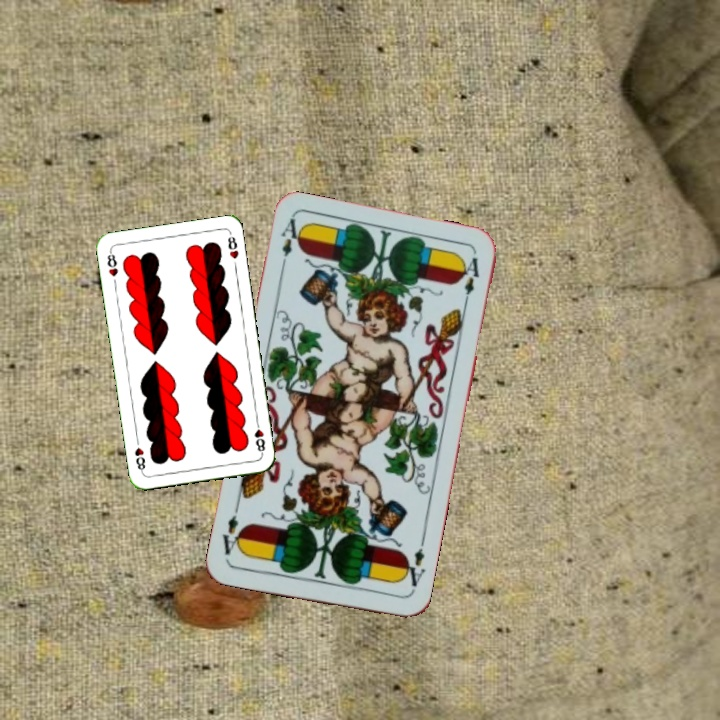EA: (276, 215, 305, 274), (398, 536, 428, 589)
H8: (250, 416, 268, 457), (103, 247, 120, 279)
